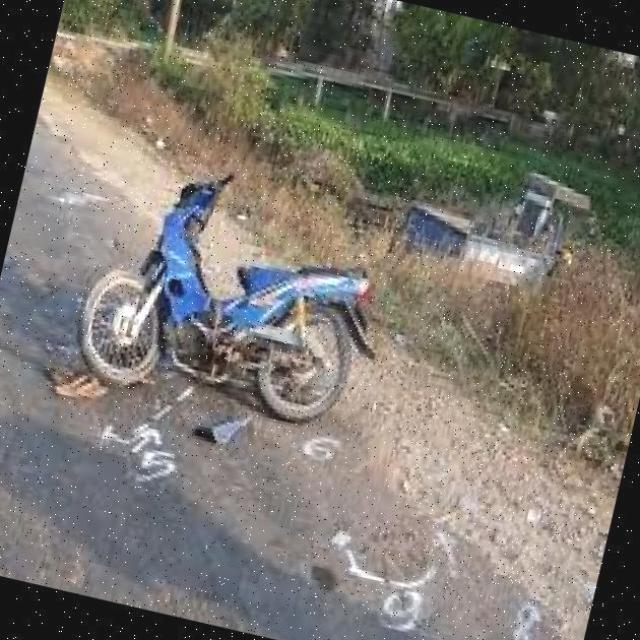accident: (45, 96, 425, 500)
